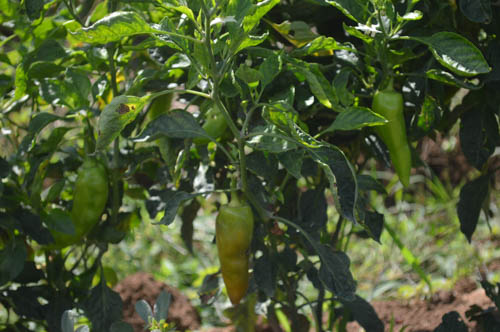ChiliPepper: (48, 167, 109, 248), (369, 93, 414, 187), (215, 204, 252, 301), (195, 115, 229, 148)
